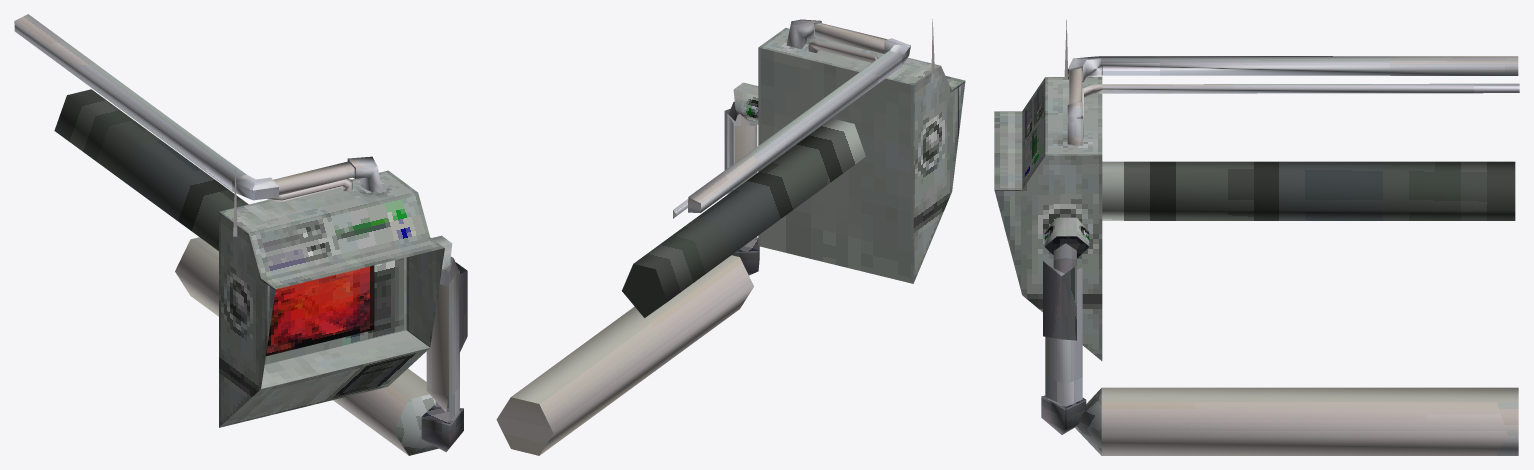
The model's file is frn_all_data_terminal_wall_s4_l1.fbx.
3 views of the same model, side by side, from view 1: azimuth 30°, elevation 25°; view 2: azimuth 150°, elevation 25°; view 3: azimuth 270°, elevation 25° (orthographic). The views are drawn at different scales.
Parts seen in each view (by area): view 1: mesh_node; view 2: mesh_node; view 3: mesh_node.
Part boxes in pixels (x1,y1,x2,y2): mesh_node: (14, 14, 467, 455); mesh_node: (496, 19, 965, 455); mesh_node: (994, 19, 1519, 455).
Bounding box in the file's own units: 0.639 × 0.8991 × 1.26.
